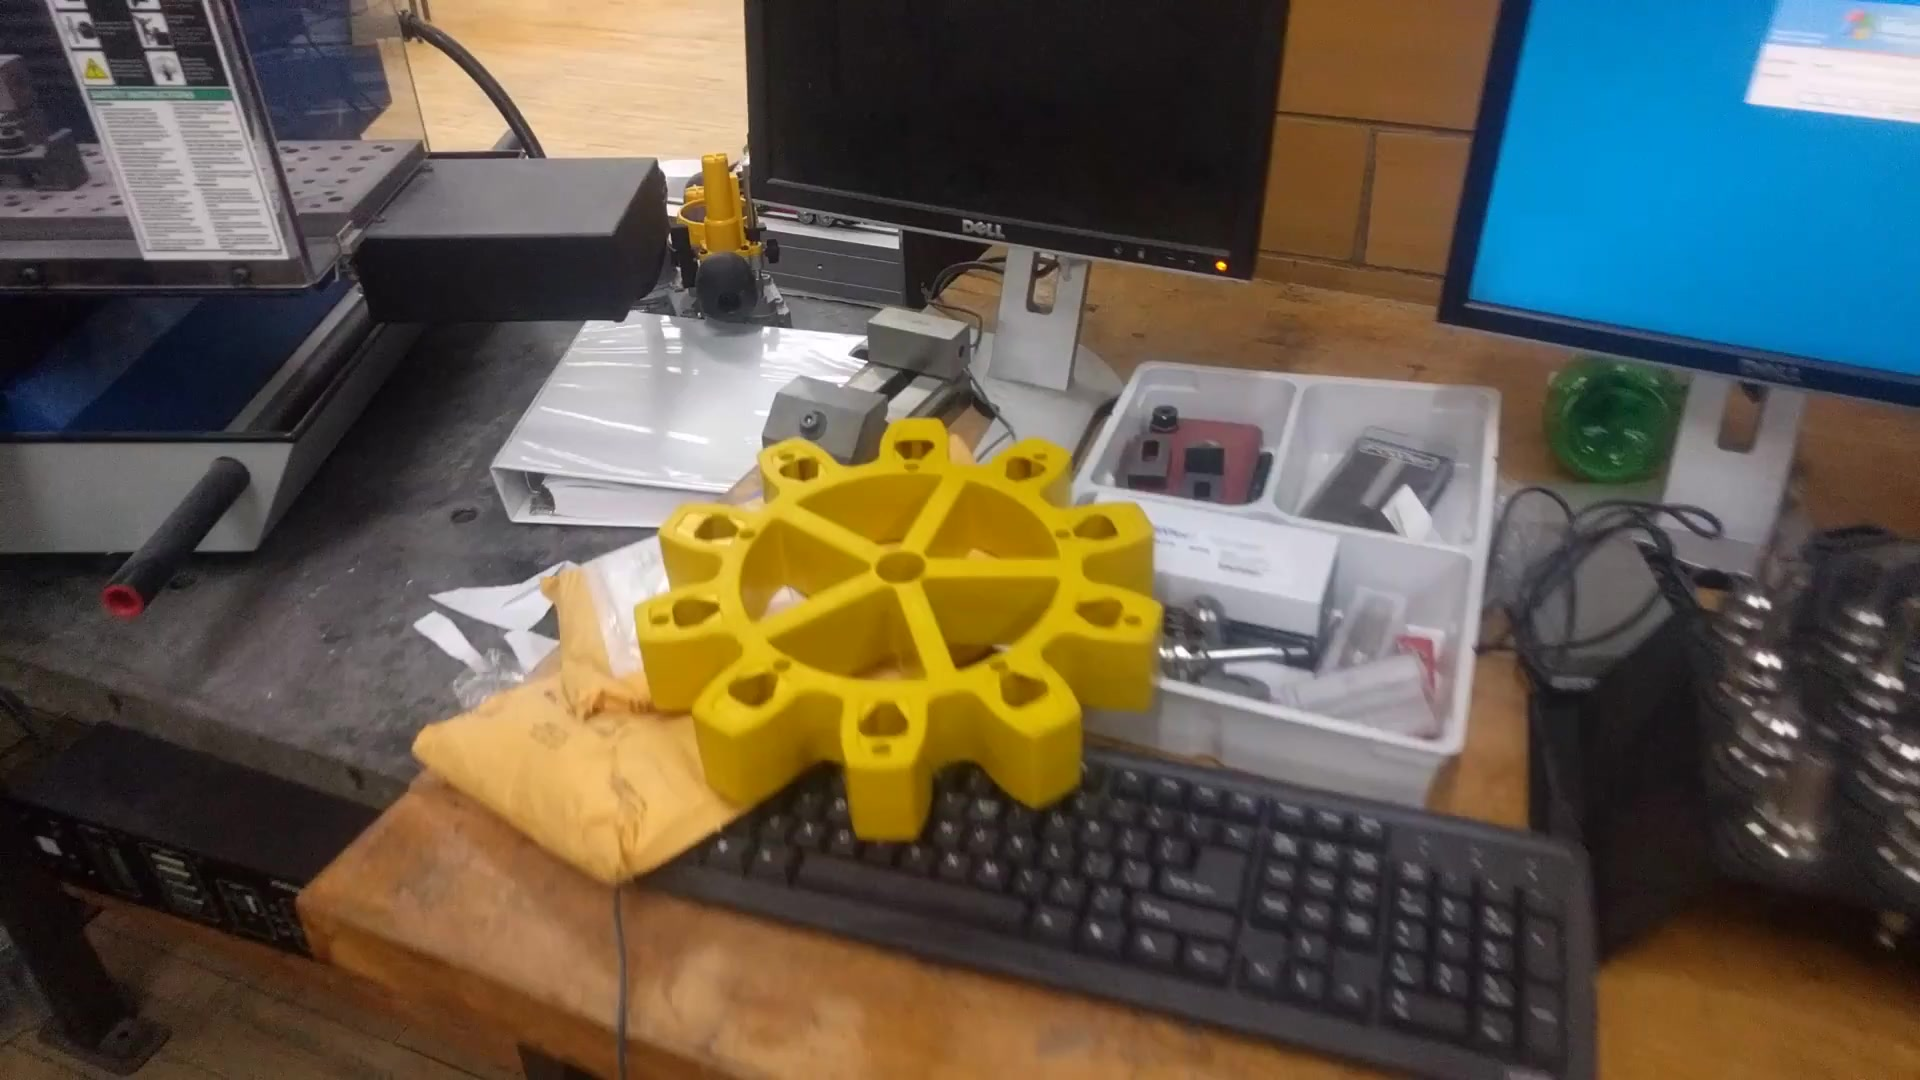gear: (658, 369, 1163, 825)
